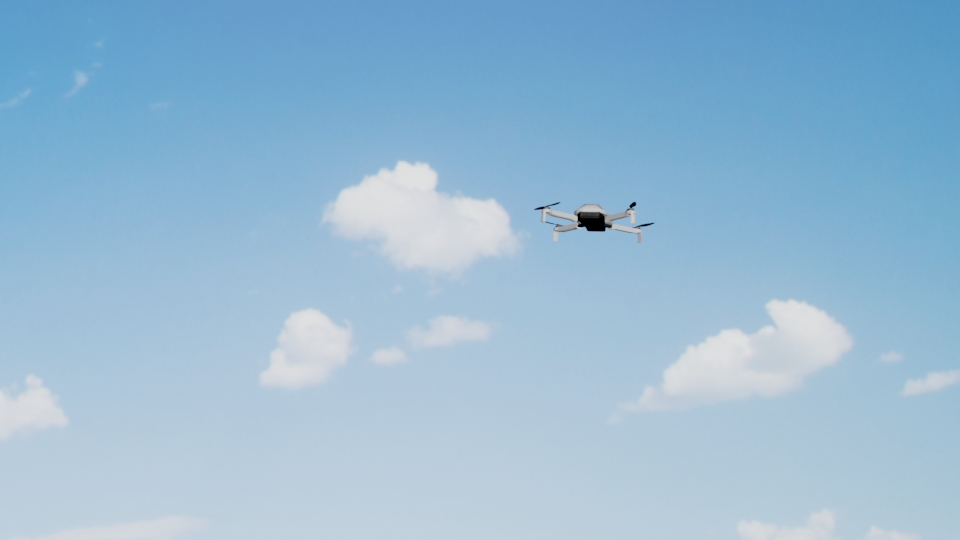drone: (535, 198, 654, 242)
